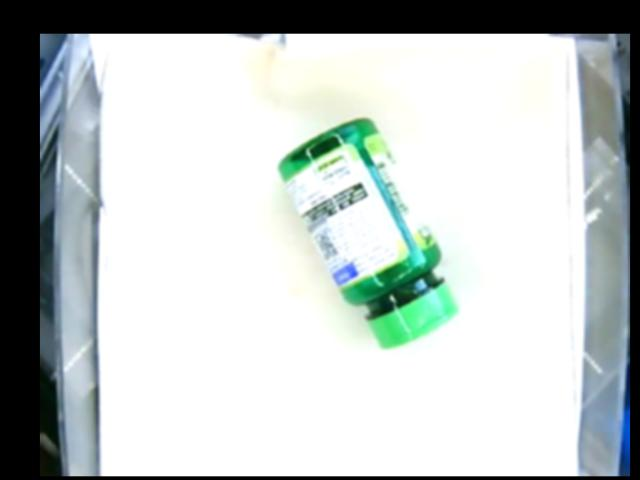Bottle: (277, 116, 459, 350)
